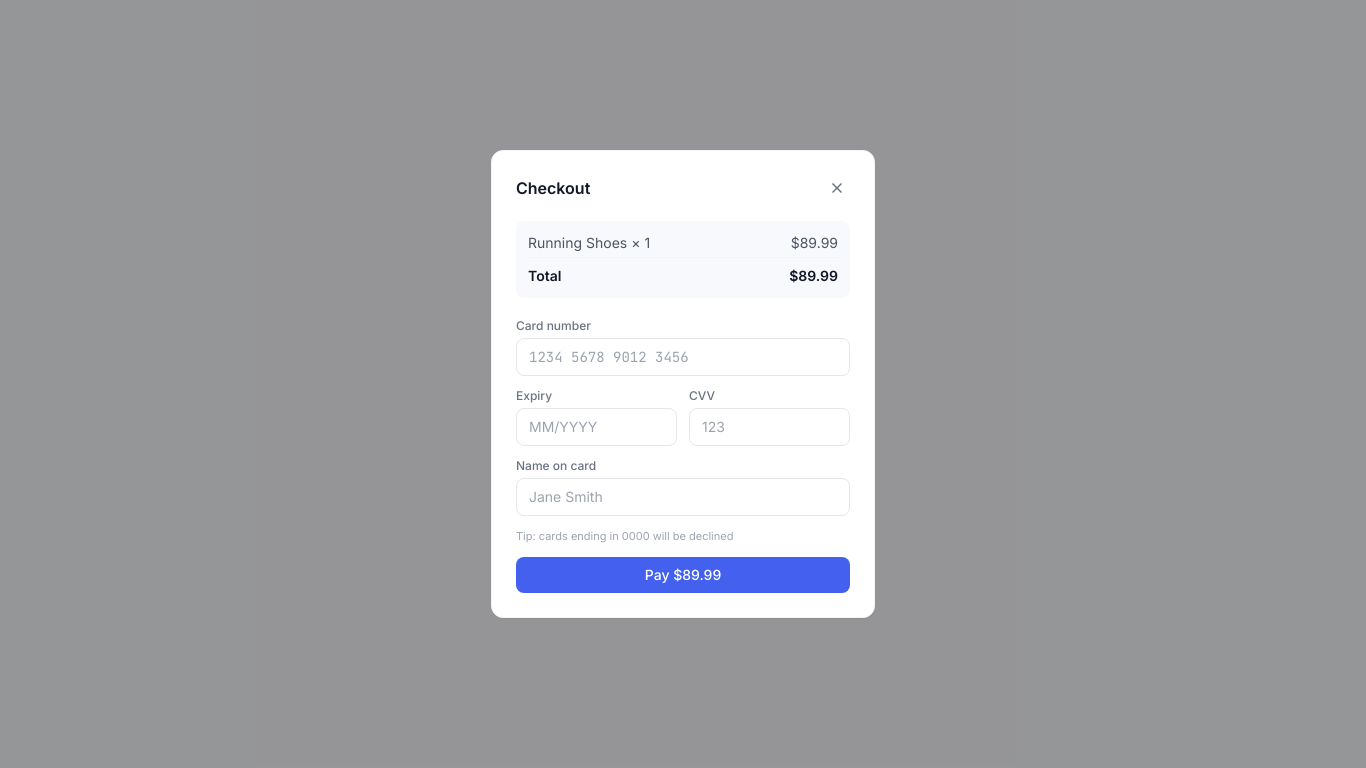
CheckoutModal › CVV validation (exactly 3 digits) › rejects a CVV shorter than 3 digits
This screenshot has width=1366, height=768.
In the field with placeholder "1234 5678 9012 3456": (683, 357) [516, 338, 850, 376], type "4111111111111111"
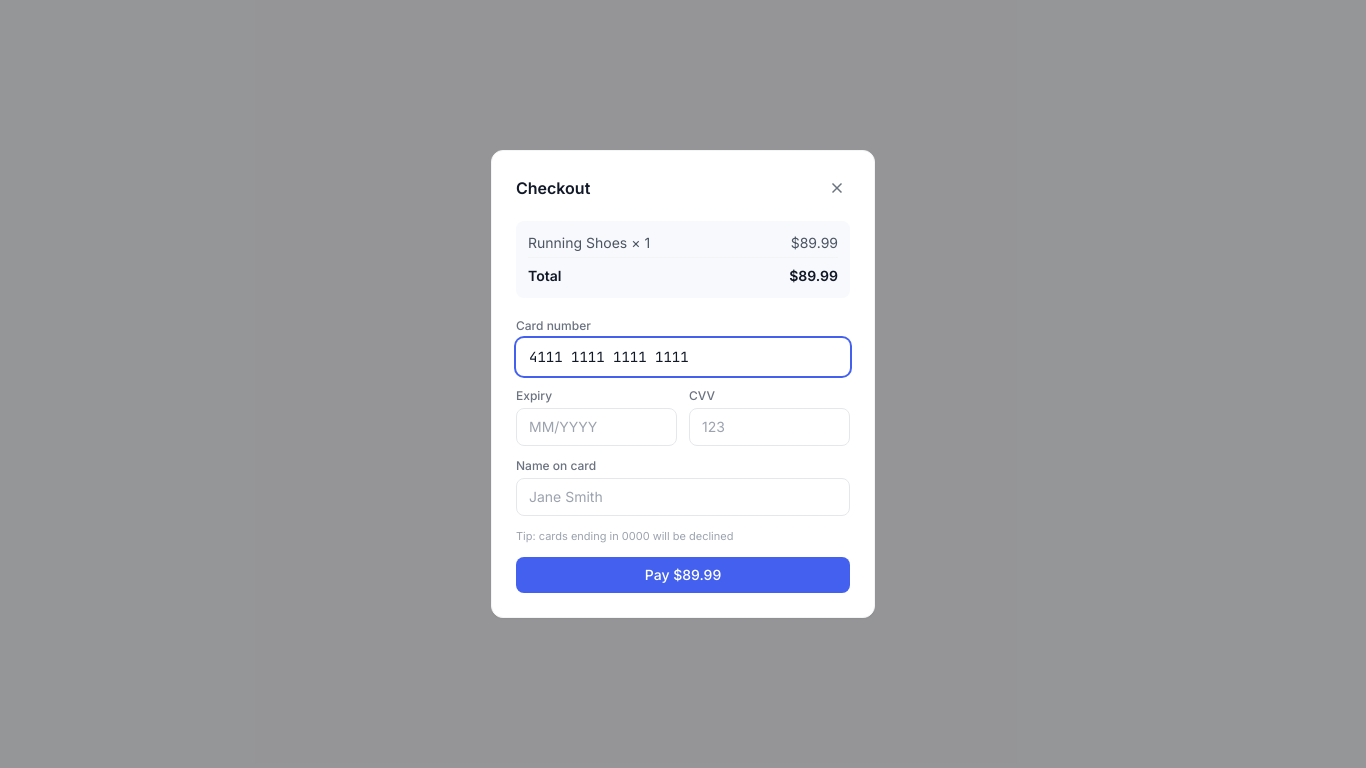
In the field with placeholder "MM/YYYY": (596, 427) [516, 408, 677, 446], type "122030"
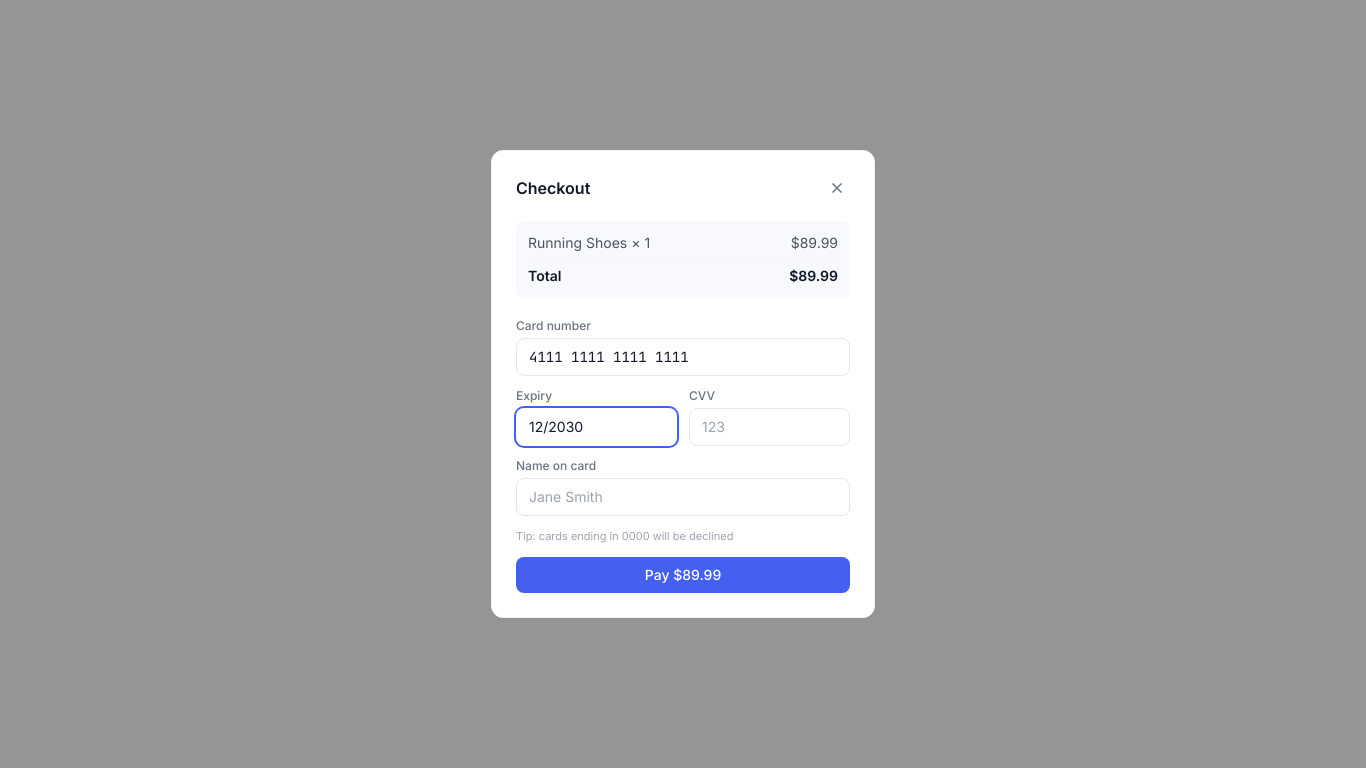
In the field with placeholder "123": (770, 427) [689, 408, 850, 446], type "12"
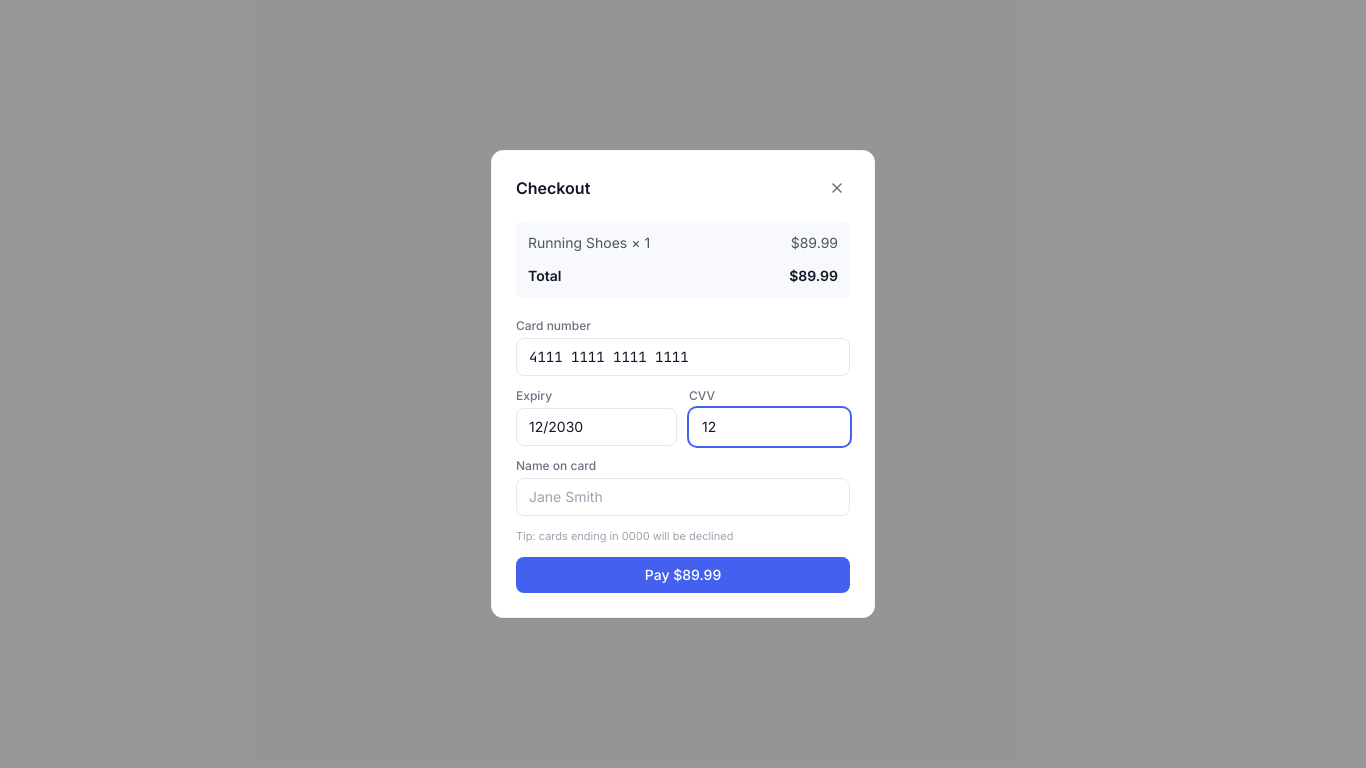
In the field with placeholder "Jane Smith": (683, 497) [516, 478, 850, 516], type "John Doe"
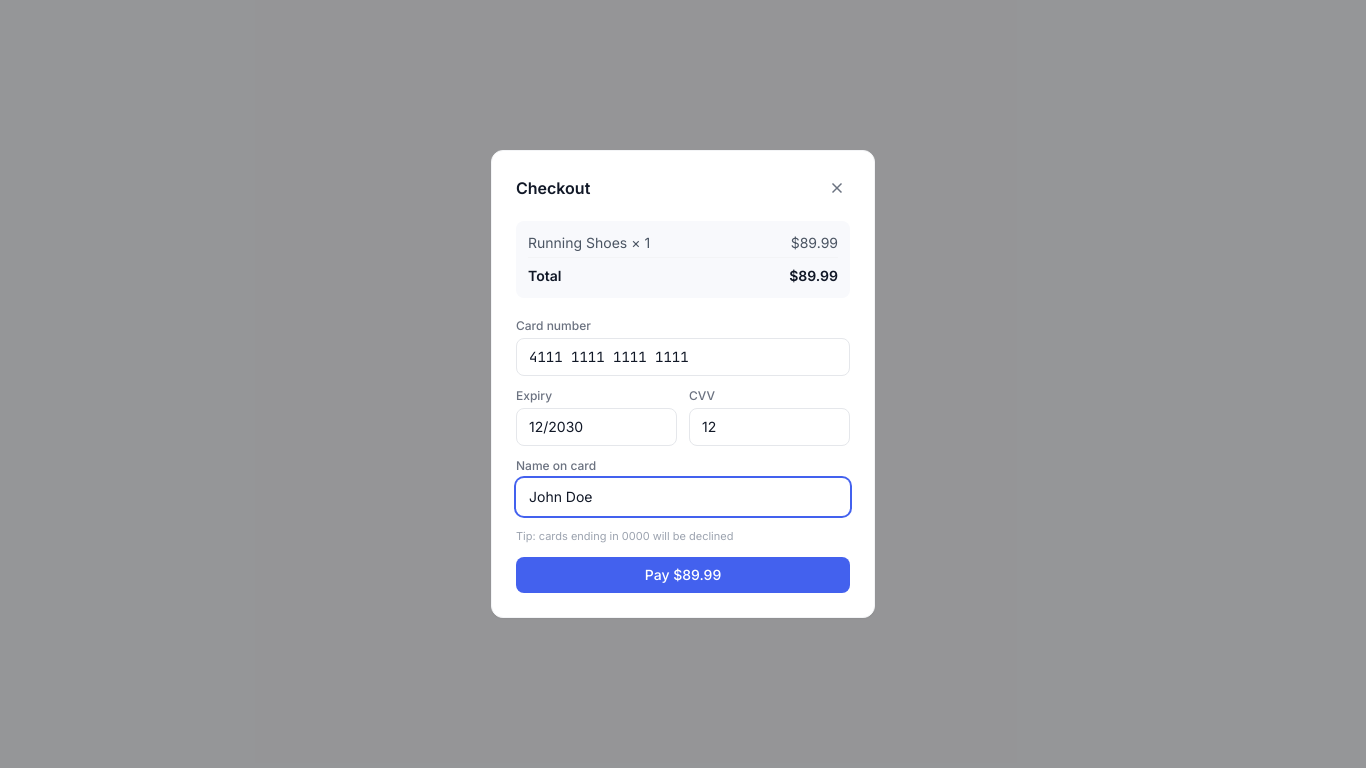
Click the button "Pay $89.99": (683, 575) [516, 557, 850, 593]
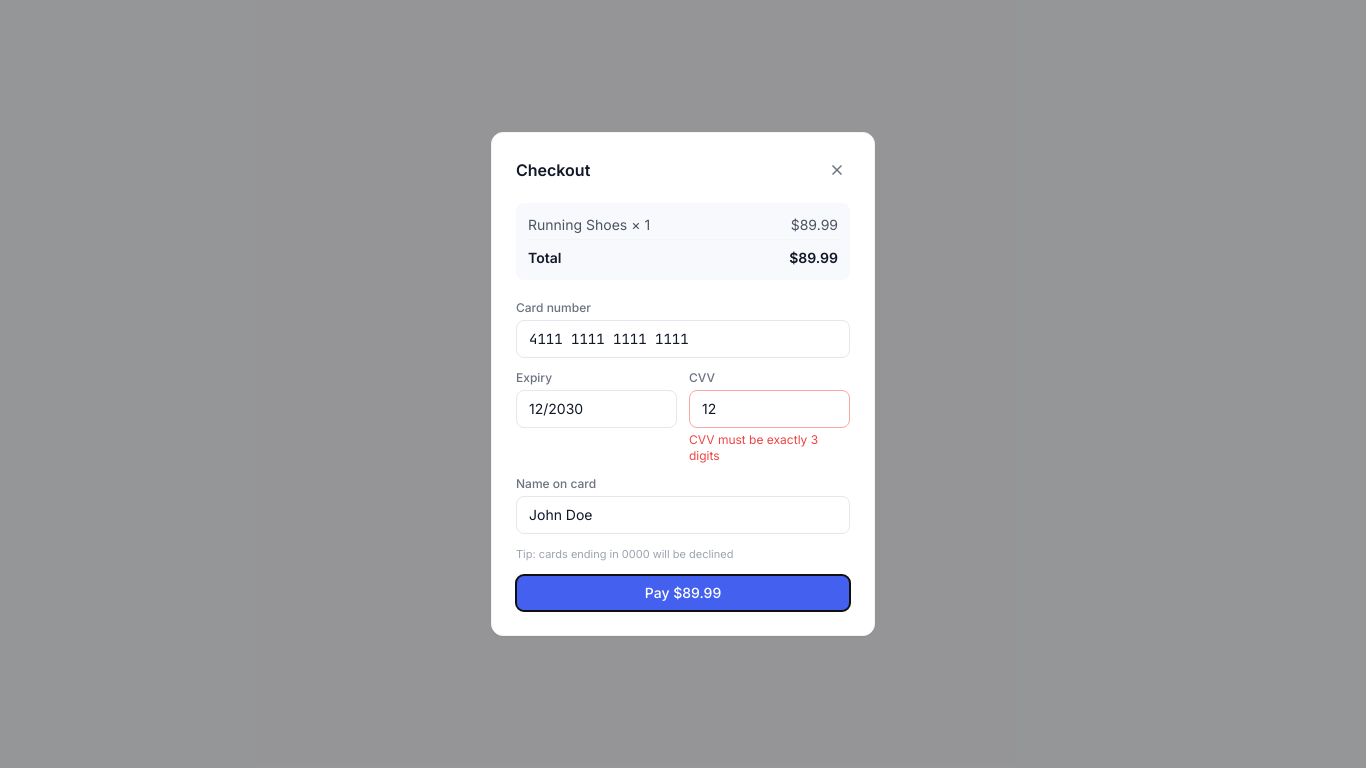
Now the text "CVV must be exactly 3 digits" is shown, box [689, 432, 818, 463]
